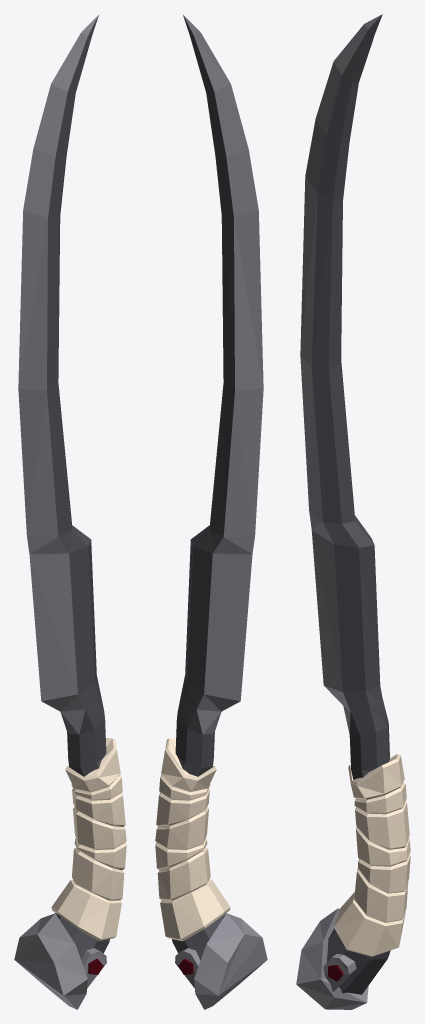
The model's file is _sword_6.fbx.
3 views of the same model, side by side, from view 1: azimuth 30°, elevation 25°; view 2: azimuth 150°, elevation 25°; view 3: azimuth 330°, elevation 25° (orthographic).
Parts seen in each view (by area): view 1: sword_6; view 2: sword_6; view 3: sword_6.
Part boxes in pixels (left/top/right/bottom): sword_6: left=14, top=15, right=126, bottom=1009; sword_6: left=155, top=15, right=267, bottom=1009; sword_6: left=296, top=14, right=410, bottom=1009.
Bounding box in the file's own units: 10.5 × 94.05 × 8.54.
